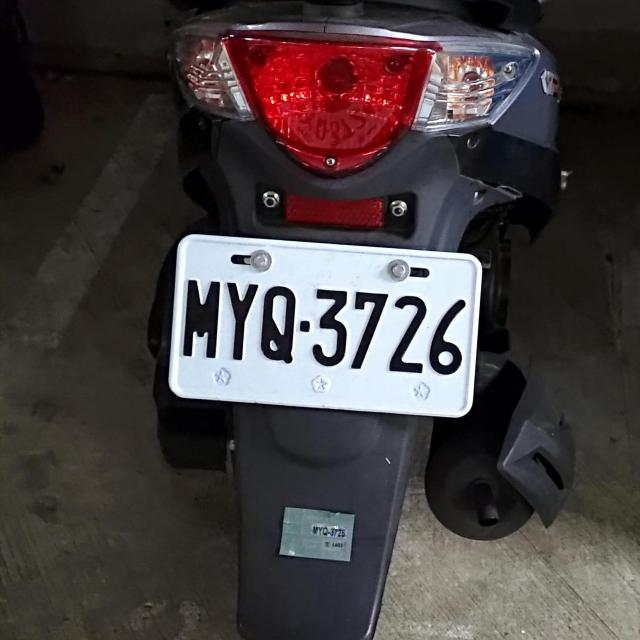W: (160, 233, 483, 416)
